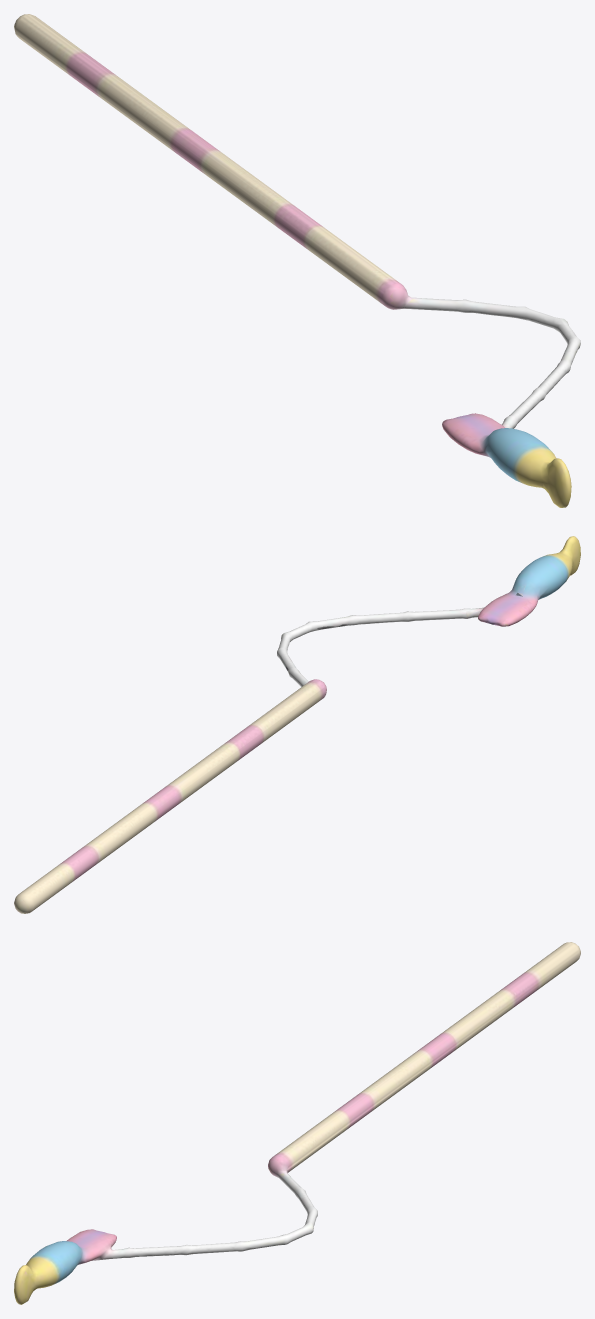
The model's file is wand_toy.glb.
3 views of the same model, one above another, from view 1: azimuth 30°, elevation 25°; view 2: azimuth 150°, elevation 25°; view 3: azimuth 330°, elevation 25° (orthographic). The views are drawn at different scales.
Visible parts, largest first — view 1: wand_toy.001; view 2: wand_toy.001; view 3: wand_toy.001.
Part boxes in pixels (box(x1,y1,x2,y2)): wand_toy.001: box(14, 14, 580, 507); wand_toy.001: box(14, 536, 580, 913); wand_toy.001: box(14, 942, 580, 1304).
Size of the model in its own units: 0.1226 by 0.0255 by 0.6326.
Materials: 1 (1 with a texture image).
